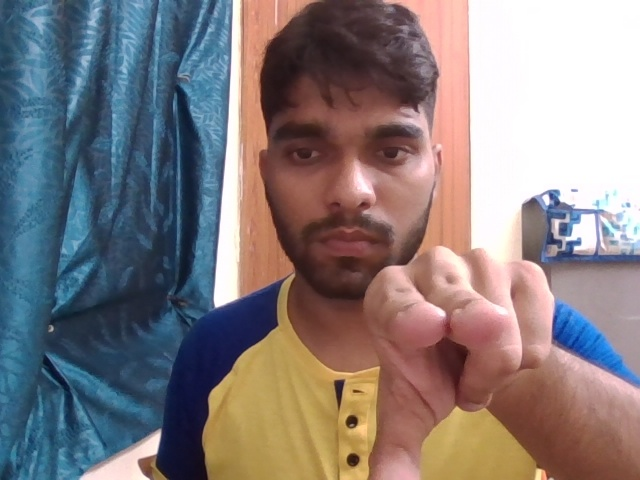No: (337, 227, 598, 480)
